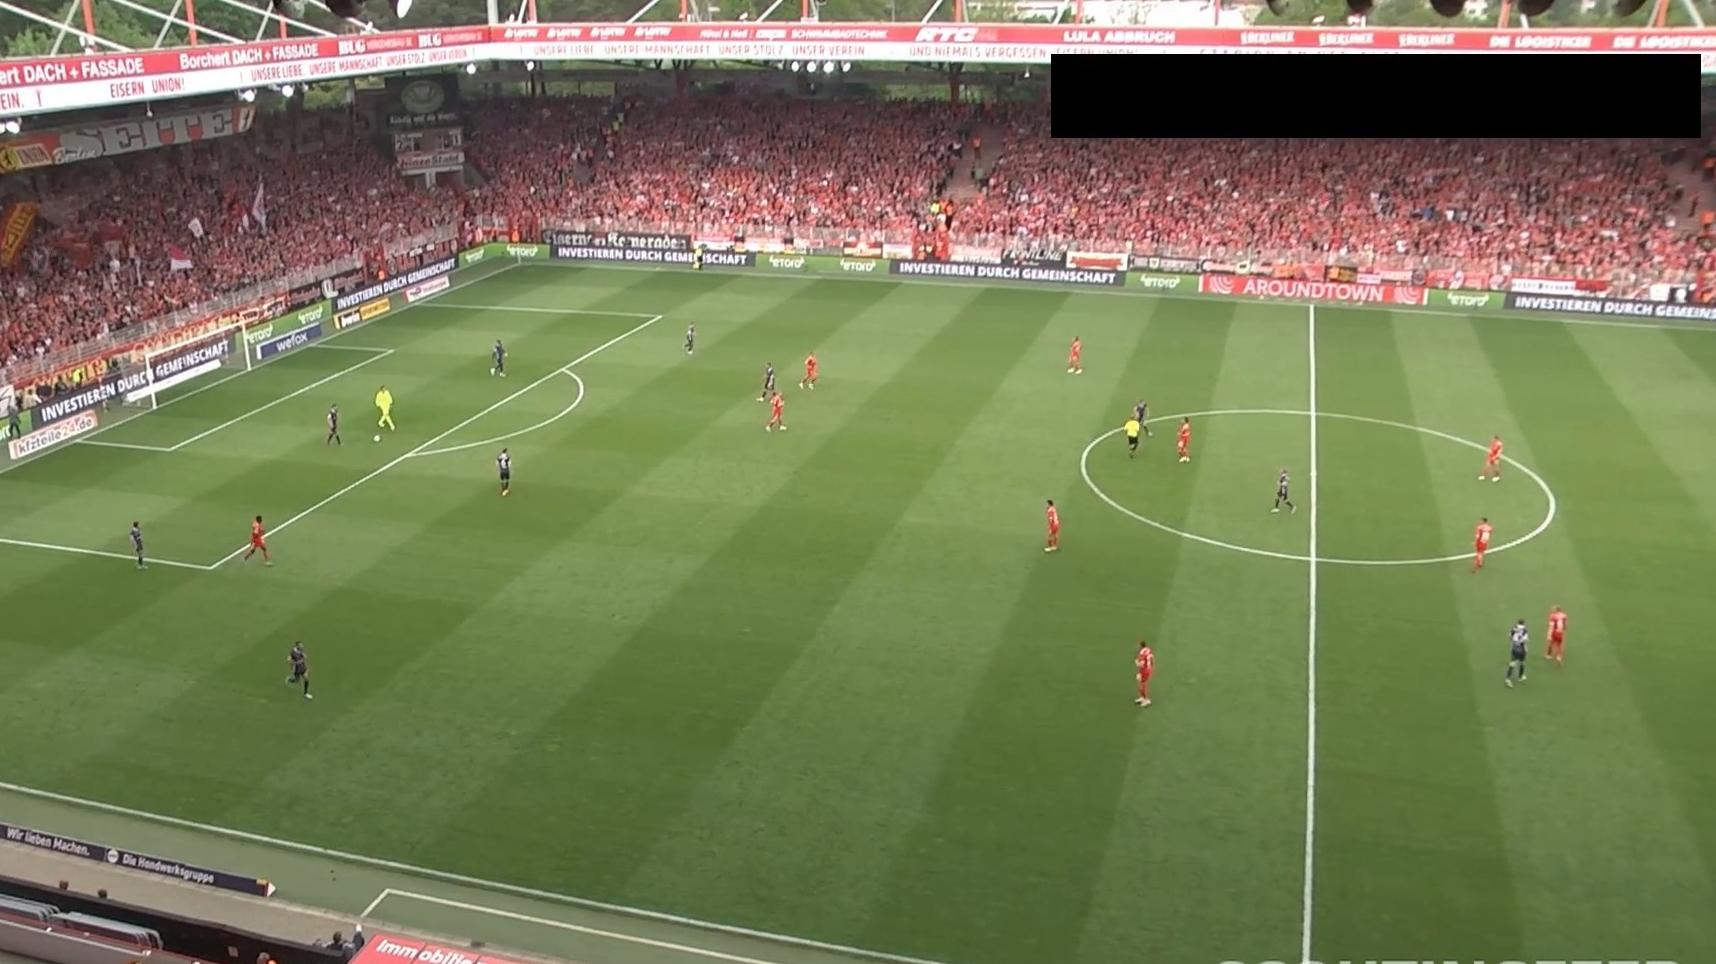ball: (371, 434, 382, 444)
